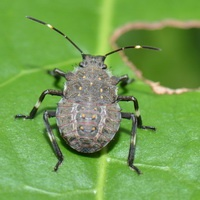insect: (15, 16, 159, 173)
